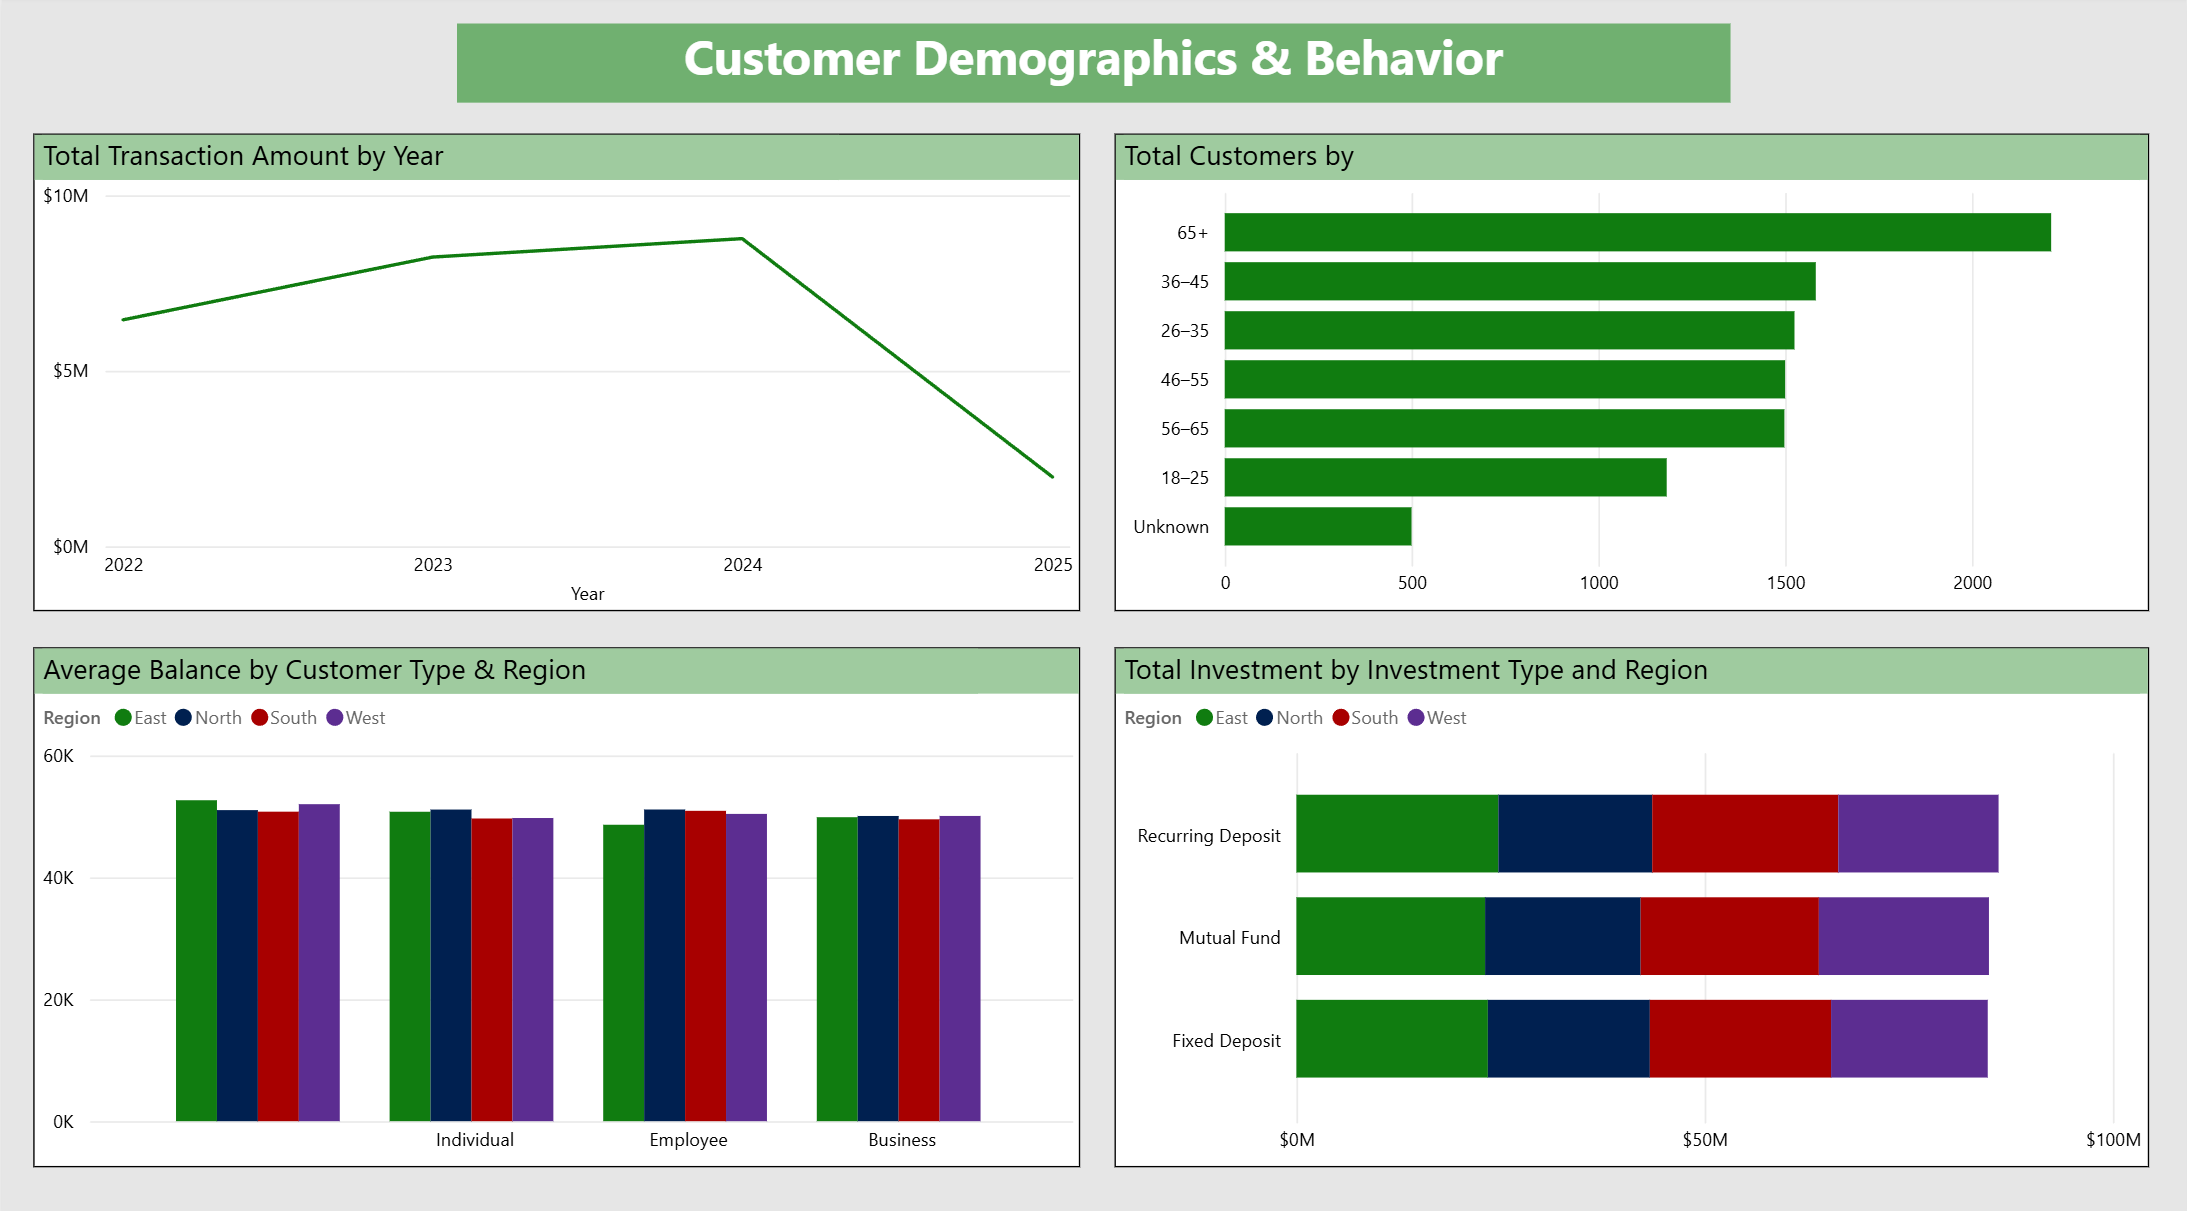

This screenshot's page, from the dashboard's own definition file:
{"tool":"powerbi","page":{"name":"Page 2","canvas":[1280,720],"ordinal":1},"visuals":[{"type":"lineChart","title":"Total Transaction Amount by Year","fields":{"Category":["transaction_data.Transaction_Date.Variation.Date Hierarchy.Year","transaction_data.Transaction_Date.Variation.Date Hierarchy.Quarter","transaction_data.Transaction_Date.Variation.Date Hierarchy.Month","transaction_data.Transaction_Date.Variation.Date Hierarchy.Day"],"Y":["transaction_data.Total Transaction Amount"]},"box":[18.3,80.5,613.8,279.9],"z":0},{"type":"clusteredColumnChart","title":"Average Balance by Customer Type & Region","fields":{"Category":["customer_data.Customer_Type"],"Y":["Avg(transaction_data.Total_Balance)"],"Series":["bank_data.Region"]},"box":[18.3,381.5,613.8,304.6],"z":1},{"type":"clusteredBarChart","title":"Total Customers by ","fields":{"Y":["customer_data.Total Customers"],"Category":["customer_data.Age Bucket"]},"box":[652.3,80.5,606.5,279.9],"z":2},{"type":"barChart","title":"Total Investment by Investment Type and Region","fields":{"Category":["transaction_data.Investment_Type"],"Y":["transaction_data.Total Investment"],"Series":["bank_data.Region"]},"box":[652.3,381.5,606.5,304.6],"z":3},{"type":"textbox","title":"Customer Demographics & Behavior","box":[267,16,746,46],"z":4}]}

Visuals, with their boxes in screenshot pixels (x1, y1, x2, y2), scaled from the page's 1280x720 canvas onto the 2187x1211 screenshot:
"Total Transaction Amount by Year" lineChart: [31, 135, 1080, 606]
"Average Balance by Customer Type & Region" clusteredColumnChart: [31, 642, 1080, 1154]
"Total Customers by " clusteredBarChart: [1115, 135, 2151, 606]
"Total Investment by Investment Type and Region" barChart: [1115, 642, 2151, 1154]
"Customer Demographics & Behavior" textbox: [456, 27, 1731, 104]
